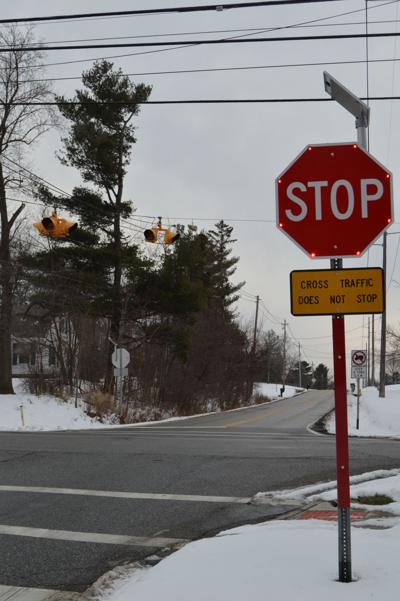stopsign: (277, 141, 393, 258)
